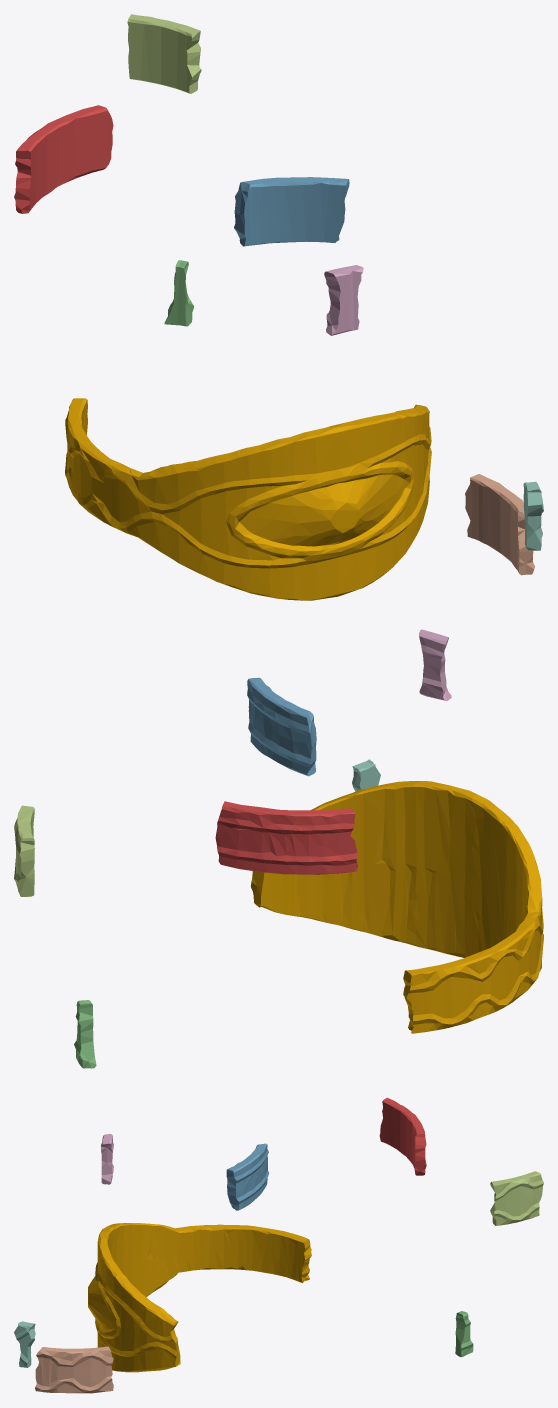
The model's file is fractured_68_8pcs_transformed.glb.
3 views of the same model, one above another, from view 1: azimuth 30°, elevation 25°; view 2: azimuth 150°, elevation 25°; view 3: azimuth 270°, elevation 25° (orthographic). The views are drawn at different scales.
Visible parts, largest first — view 1: piece_0.obj, piece_2.obj, piece_1.obj, piece_5.obj, piece_7.obj, piece_6.obj, piece_4.obj, piece_3.obj; view 2: piece_0.obj, piece_1.obj, piece_2.obj, piece_5.obj, piece_6.obj, piece_3.obj, piece_4.obj; view 3: piece_0.obj, piece_7.obj, piece_5.obj, piece_1.obj, piece_2.obj, piece_4.obj, piece_3.obj, piece_6.obj.
Part boxes in pixels (left/top/right/bottom): piece_0.obj: left=65, top=398, right=431, bottom=600; piece_2.obj: left=234, top=177, right=349, bottom=246; piece_1.obj: left=14, top=105, right=113, bottom=213; piece_5.obj: left=127, top=14, right=201, bottom=93; piece_7.obj: left=465, top=474, right=534, bottom=575; piece_6.obj: left=324, top=265, right=363, bottom=335; piece_4.obj: left=523, top=481, right=543, bottom=550; piece_3.obj: left=164, top=260, right=193, bottom=326; piece_0.obj: left=250, top=781, right=543, bottom=1033; piece_1.obj: left=215, top=801, right=357, bottom=874; piece_2.obj: left=247, top=677, right=316, bottom=776; piece_5.obj: left=14, top=805, right=34, bottom=896; piece_6.obj: left=419, top=629, right=451, bottom=700; piece_3.obj: left=74, top=1000, right=96, bottom=1068; piece_4.obj: left=352, top=759, right=380, bottom=791; piece_0.obj: left=88, top=1223, right=311, bottom=1372; piece_7.obj: left=35, top=1346, right=113, bottom=1393; piece_5.obj: left=490, top=1171, right=543, bottom=1225; piece_1.obj: left=379, top=1097, right=426, bottom=1175; piece_2.obj: left=226, top=1143, right=269, bottom=1210; piece_4.obj: left=14, top=1321, right=35, bottom=1367; piece_3.obj: left=455, top=1311, right=473, bottom=1357; piece_6.obj: left=101, top=1134, right=113, bottom=1184.
Bounding box in the file's own units: 0.9675 × 0.9341 × 2.04.
